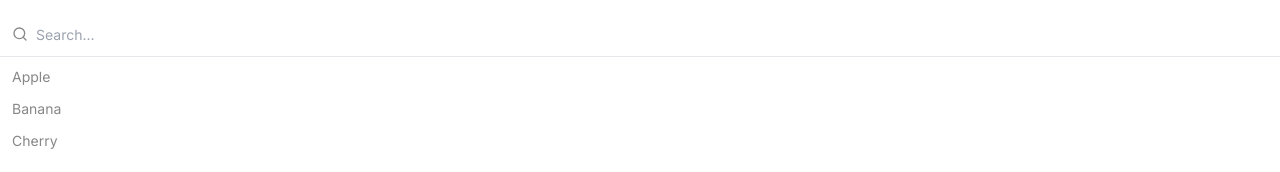
Test: Command › supports custom value and filter functions
The width and height of the screenshot is (1280, 172).
Type "app" into the dropdown with placeholder "Search...".
click(652, 34); type("app")  # box x1=36 y1=12 x2=1268 y2=56
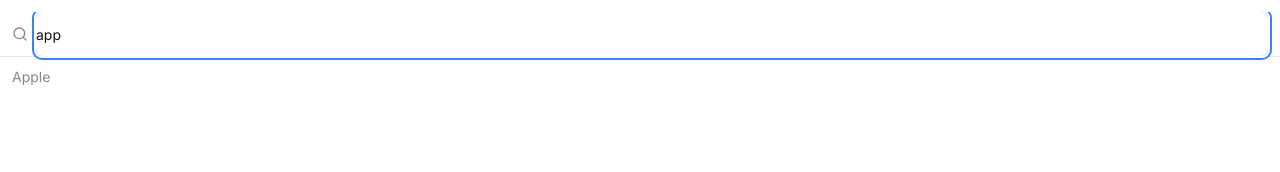
expect the option "Apple" is shown: met, box x1=12 y1=68 x2=50 y2=85
expect the option "Banana" is gone: met
expect the option "Cherry" is gone: met
